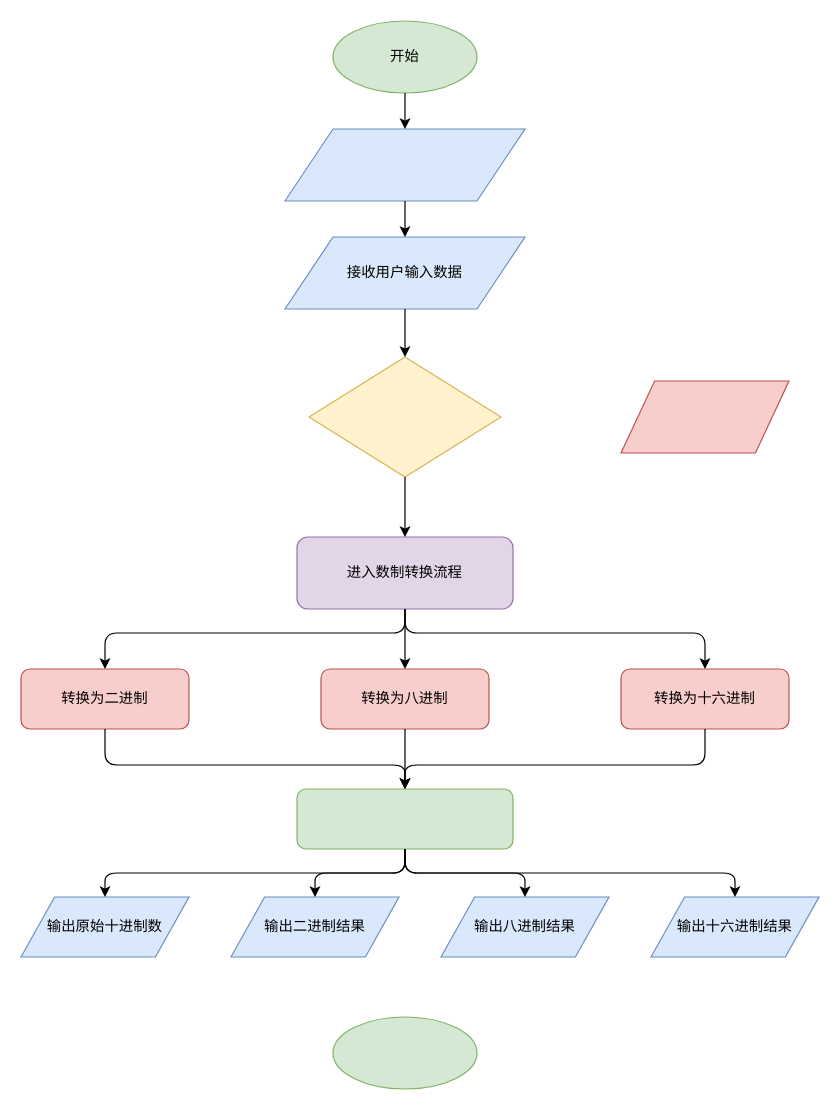
Image size: 840x1110. Some labels were removed from this diagram. Each missing label, with the box of its shape:
提示用户输入十进制整数: (284, 128, 525, 201)
显示错误提示: (620, 380, 789, 453)
暂存转换结果: (296, 788, 513, 849)
结束: (332, 1016, 477, 1089)
输入是否为整数？: (308, 356, 501, 477)
